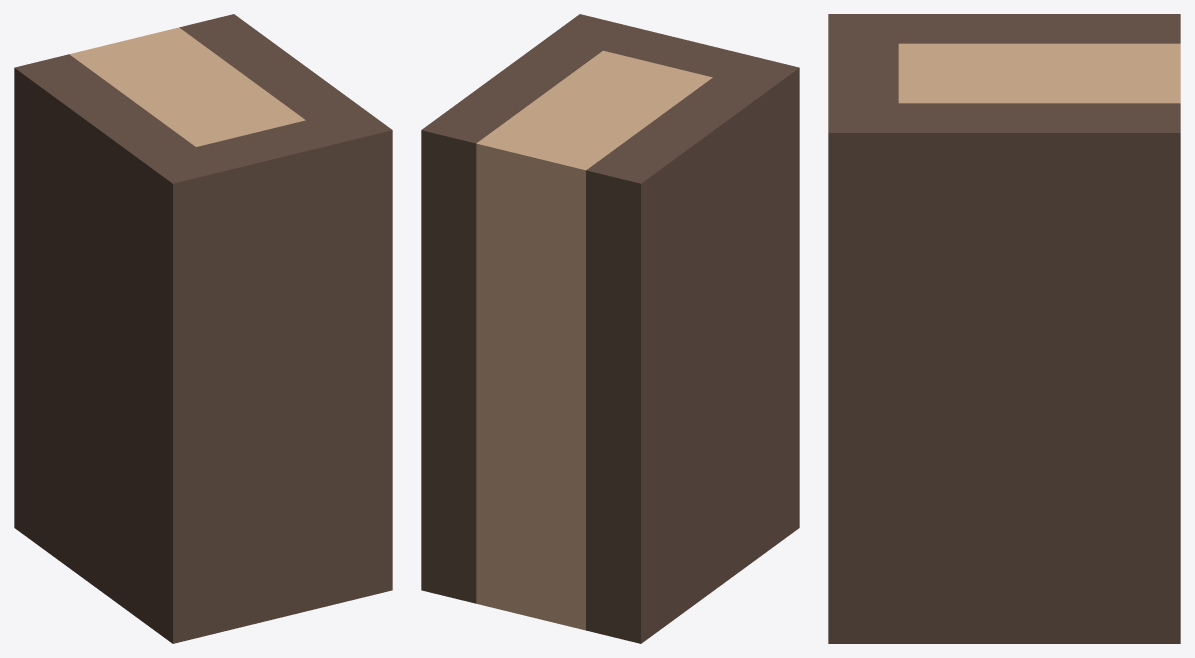
The model's file is Livre 8.obj.
The picture shows the model from 3 angles, left to right: view 1: azimuth 30°, elevation 25°; view 2: azimuth 150°, elevation 25°; view 3: azimuth 270°, elevation 25°; orthographic projection. The views are drawn at different scales.
Parts seen in each view (by area): view 1: Livre 8; view 2: Livre 8; view 3: Livre 8.
Part boxes in pixels (x1=…): Livre 8: x1=14, y1=14, x2=392, y2=643; Livre 8: x1=421, y1=14, x2=799, y2=643; Livre 8: x1=828, y1=14, x2=1180, y2=643.
Bounding box in the file's own units: 4 × 8 × 5.
Materials: 1 (1 with a texture image).
